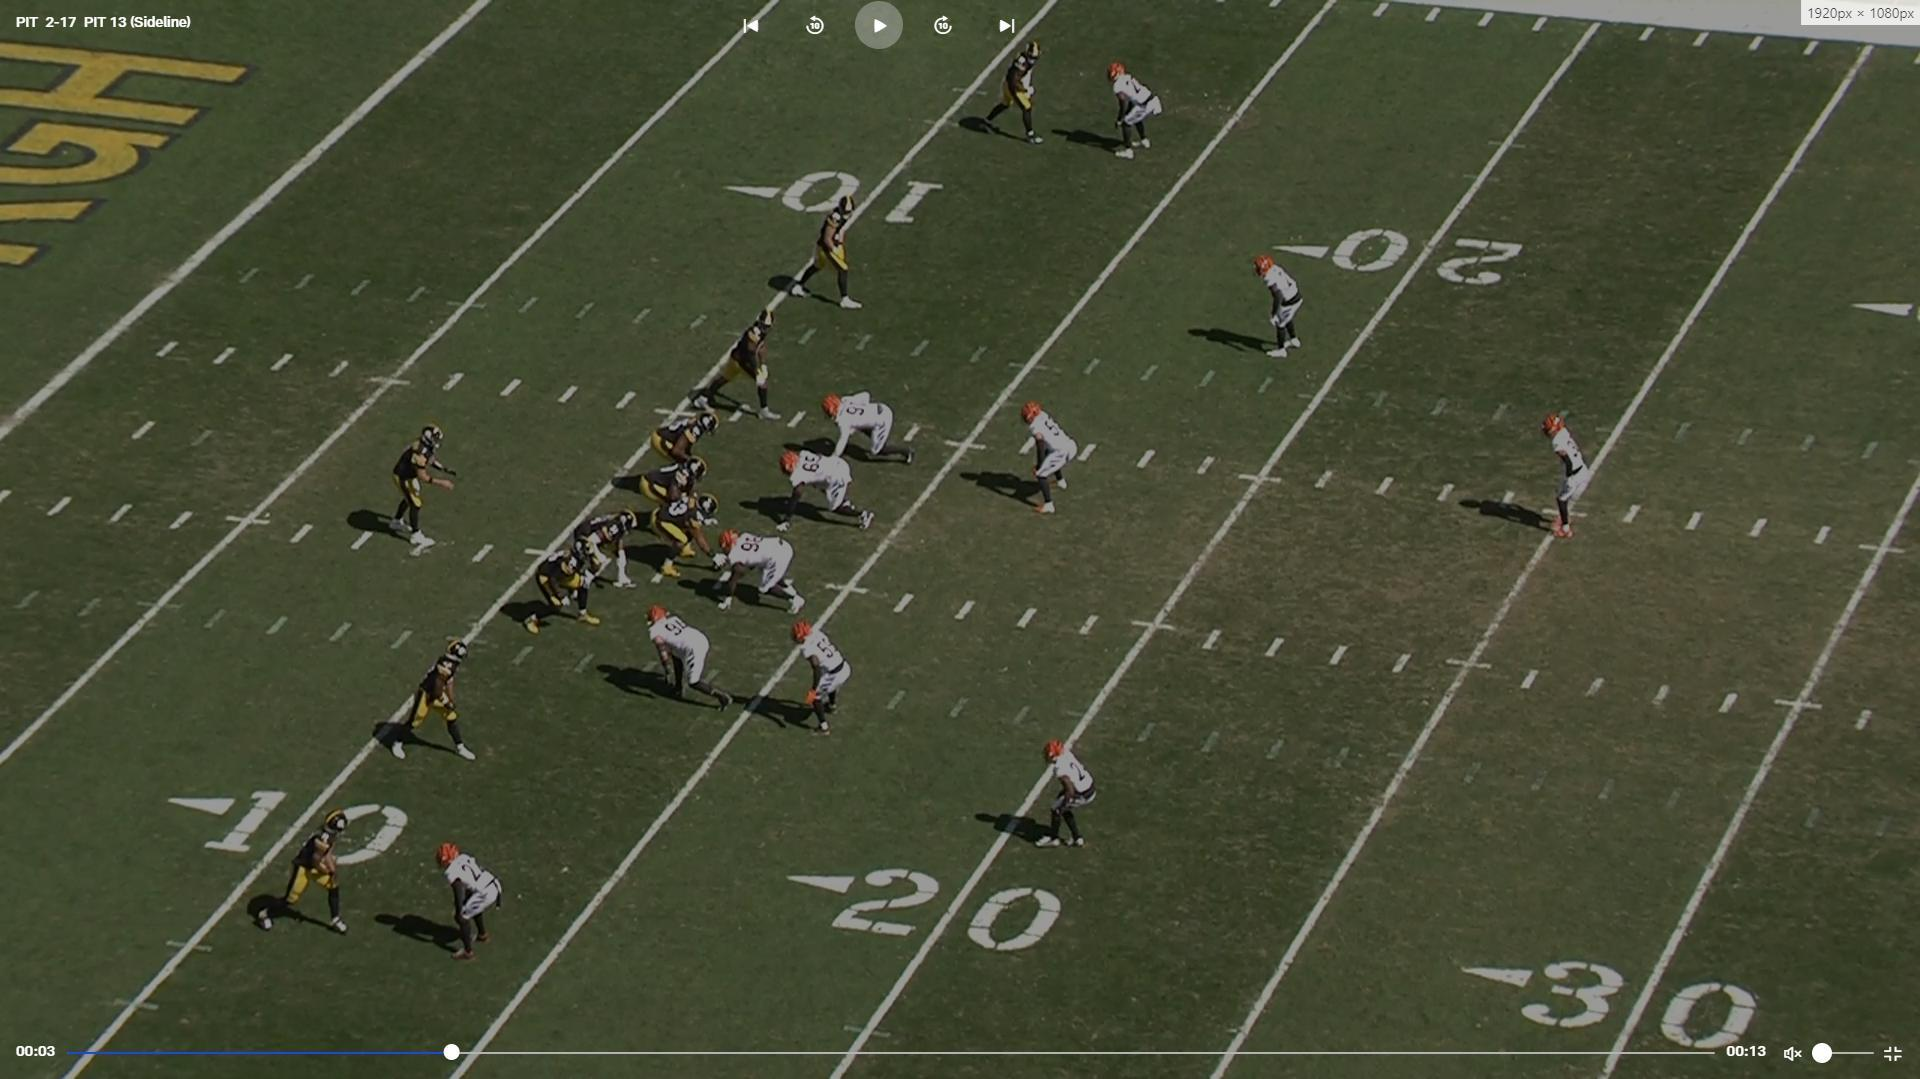defense: (641, 605, 737, 715), (716, 530, 815, 617), (433, 839, 501, 964), (779, 447, 877, 530), (1034, 735, 1097, 857), (822, 389, 919, 467), (1019, 400, 1079, 518), (796, 617, 853, 737), (1538, 414, 1588, 547), (1105, 59, 1166, 168), (1253, 251, 1307, 368)
oline: (526, 543, 597, 637), (653, 493, 719, 579), (575, 507, 641, 590), (640, 456, 713, 528), (653, 402, 713, 468)
qb: (388, 418, 454, 558)
skill: (251, 805, 363, 940), (384, 634, 484, 768), (787, 185, 873, 318), (705, 307, 783, 423), (975, 30, 1048, 146)
